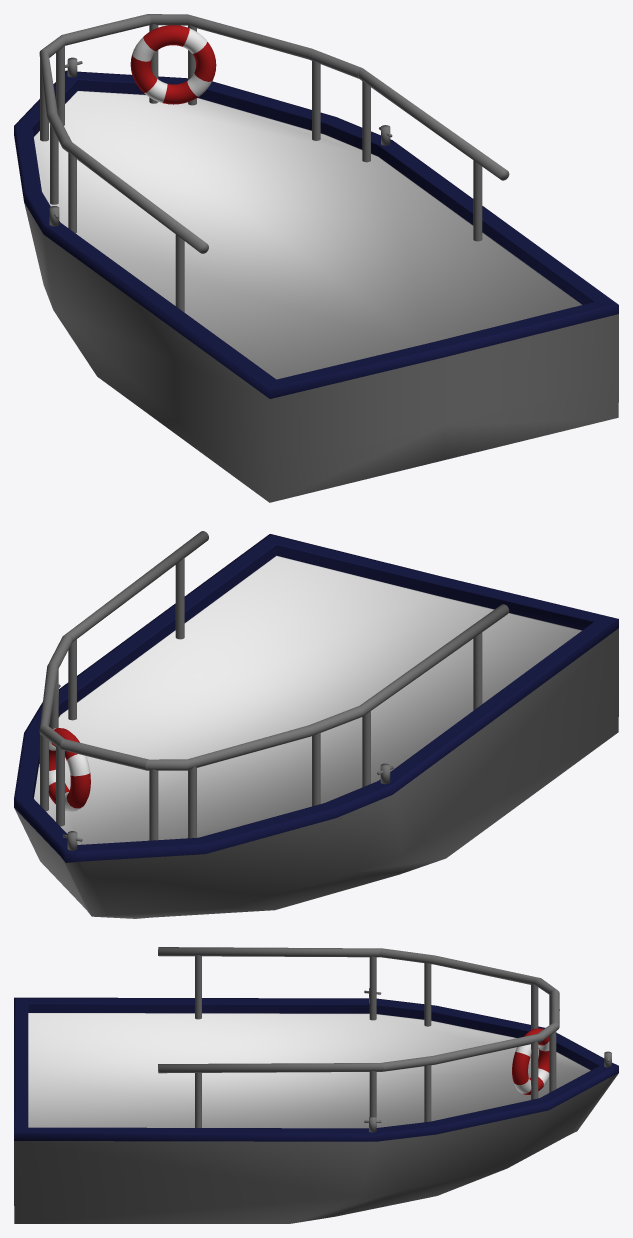
File: Boat.fbx
3 renders of one model, top to bottom at view 1: azimuth 30°, elevation 25°; view 2: azimuth 150°, elevation 25°; view 3: azimuth 270°, elevation 25°, orthographic. The views are drawn at different scales.
Parts seen in each view (by area): view 1: Boat; view 2: Boat; view 3: Boat.
Part boxes in pixels (x1=…): Boat: x1=14, y1=14, x2=618, y2=502; Boat: x1=14, y1=531, x2=618, y2=918; Boat: x1=14, y1=947, x2=618, y2=1223.
Size of the model in its own units: 800 by 419 by 1503.
